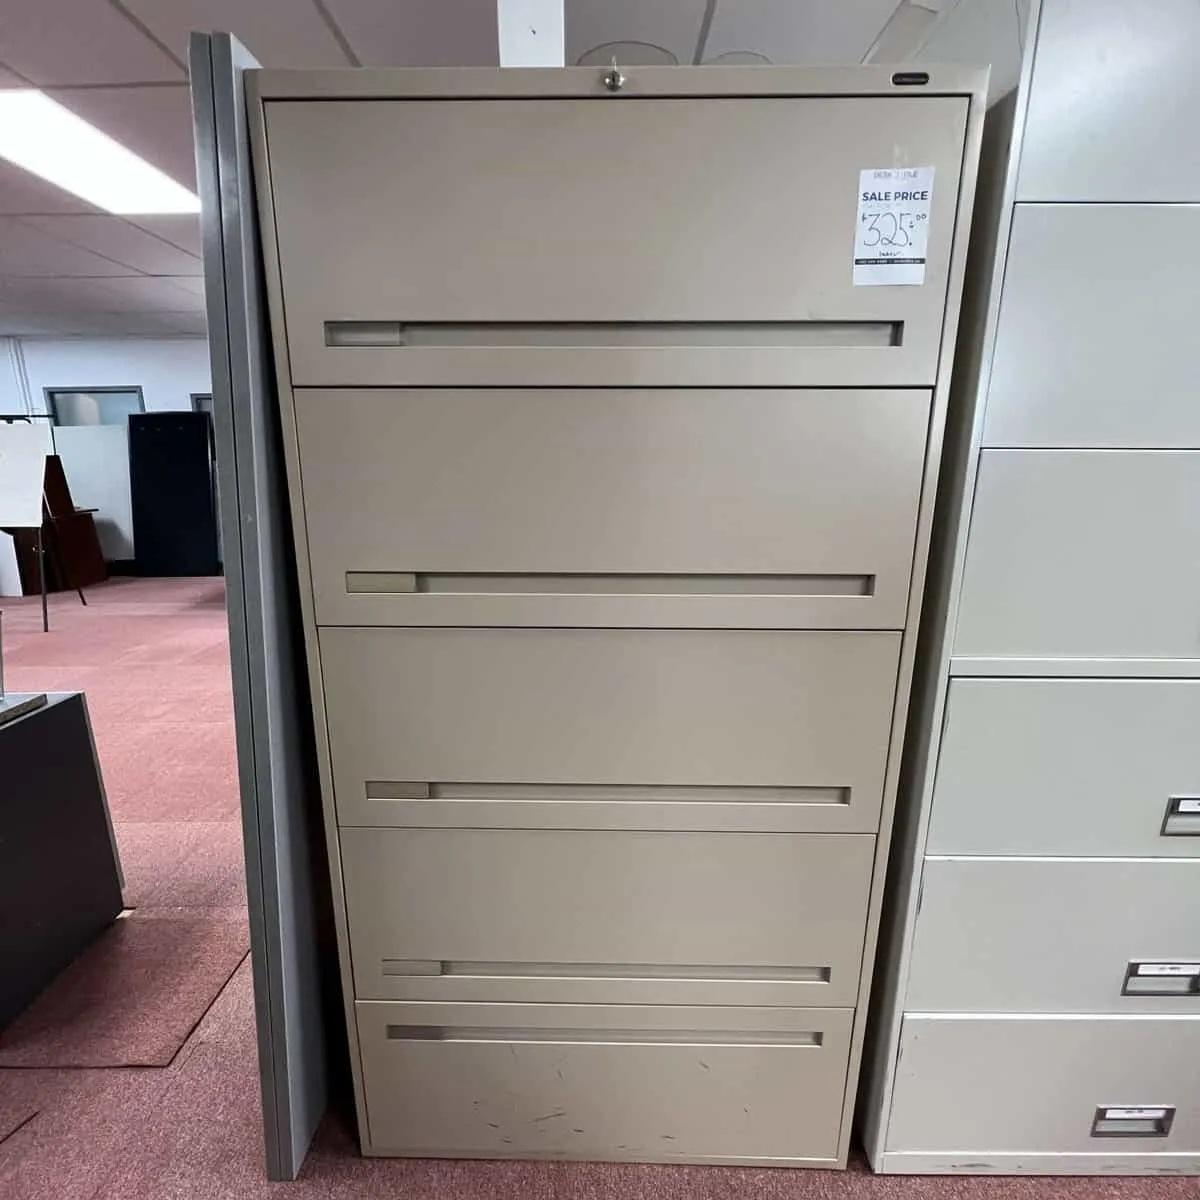Filing Cabinet: (241, 62, 992, 1169), (867, 0, 1199, 1179)
